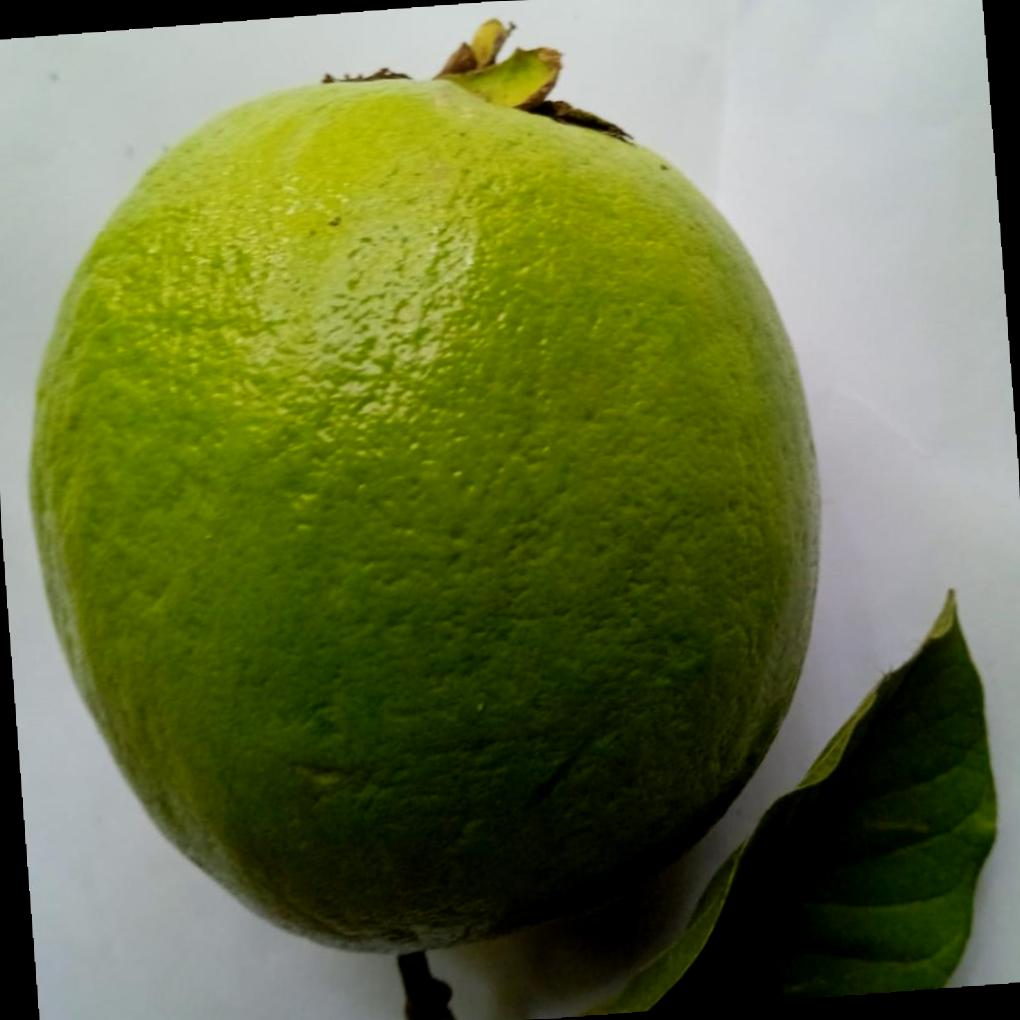FreshGuava: (26, 23, 823, 955)
